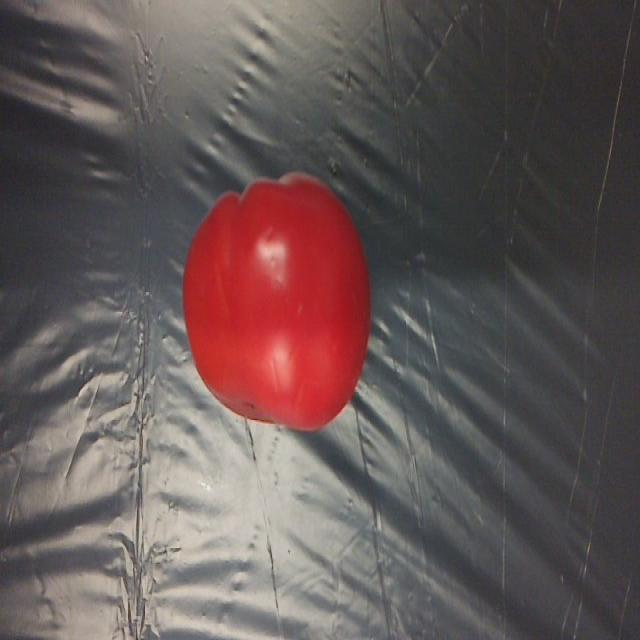kirmizi: (161, 164, 406, 453)
